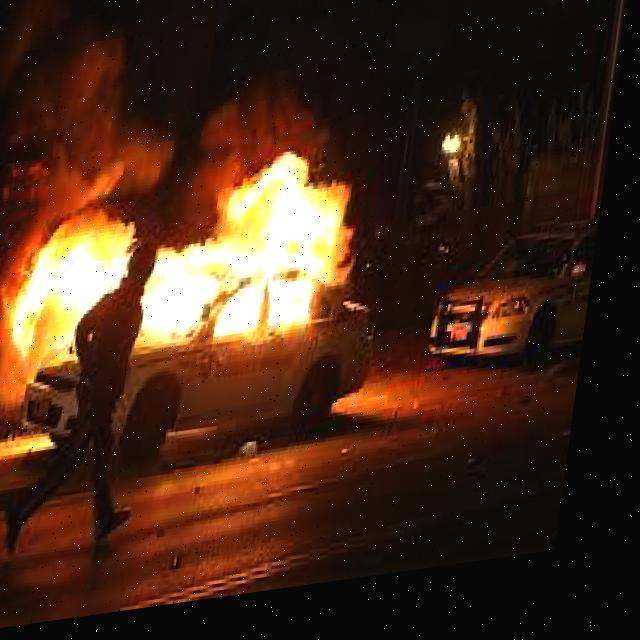Fire: (16, 140, 388, 392)
